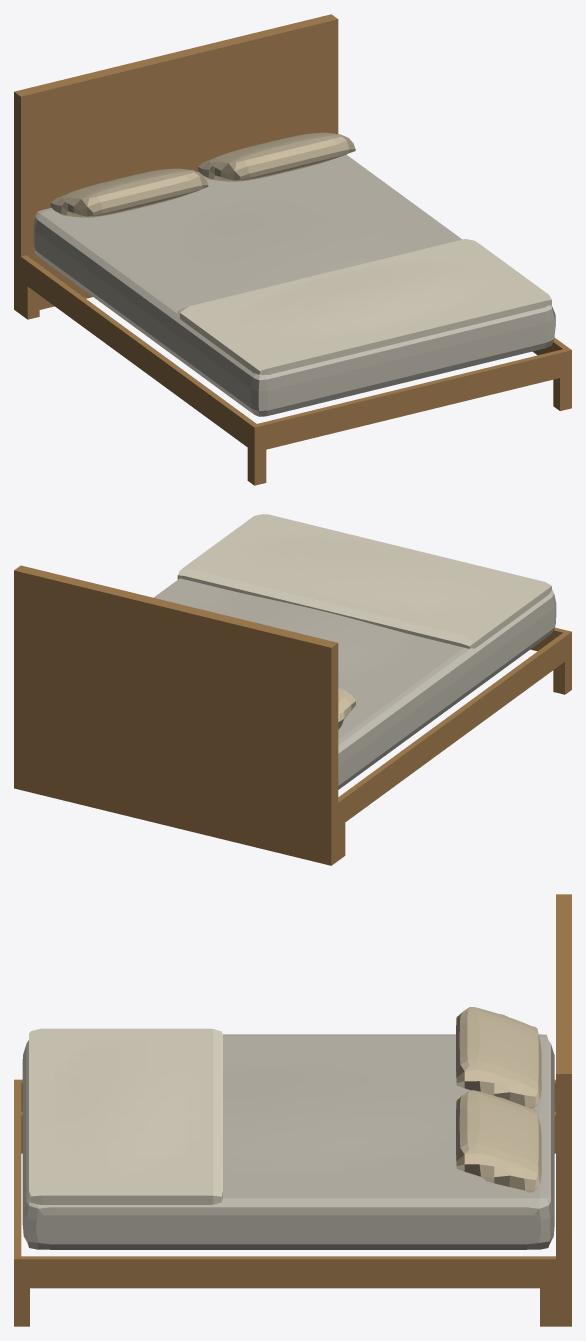
The model's file is HIN-BED-queen.glb.
3 renders of one model, top to bottom at view 1: azimuth 30°, elevation 25°; view 2: azimuth 150°, elevation 25°; view 3: azimuth 270°, elevation 25°, orthographic. The views are drawn at different scales.
Parts seen in each view (by area): view 1: mattress:pbr, head:pbr, throw:pbr, foot:pbr, rail-l:pbr, pillow-l:pbr, pillow-r:pbr, leg-fl:pbr, leg-fr:pbr; view 2: head:pbr, throw:pbr, mattress:pbr, rail-l:pbr, leg-fl:pbr, pillow-l:pbr; view 3: mattress:pbr, throw:pbr, rail-r:pbr, pillow-r:pbr, pillow-l:pbr, head:pbr, foot:pbr, leg-hr:pbr, leg-fr:pbr.
Boxes of the visible parts, x1,y1,x2,y2 form: mattress:pbr: (33, 154, 555, 416); head:pbr: (14, 14, 338, 314); throw:pbr: (177, 239, 551, 375); foot:pbr: (257, 349, 566, 450); rail-l:pbr: (21, 255, 259, 452); pillow-l:pbr: (50, 168, 208, 217); pillow-r:pbr: (198, 132, 355, 181); leg-fl:pbr: (247, 448, 266, 485); leg-fr:pbr: (553, 375, 571, 410); head:pbr: (14, 565, 338, 865); throw:pbr: (177, 514, 551, 648); mattress:pbr: (153, 578, 556, 789); rail-l:pbr: (338, 630, 571, 827); leg-fl:pbr: (553, 657, 571, 694); pillow-l:pbr: (338, 687, 355, 729); mattress:pbr: (22, 1034, 554, 1249); throw:pbr: (29, 1028, 222, 1204); rail-r:pbr: (14, 1256, 555, 1288); pillow-r:pbr: (456, 1090, 541, 1192); pillow-l:pbr: (456, 1007, 541, 1108); head:pbr: (556, 894, 571, 1326); foot:pbr: (14, 1082, 21, 1256); leg-hr:pbr: (540, 1288, 555, 1326); leg-fr:pbr: (14, 1288, 29, 1326).
Bounding box in the file's own units: 1.6 × 1.05 × 2.1.
